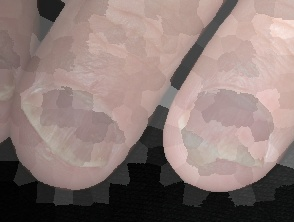Nail_psoriasis: (152, 46, 294, 207), (13, 76, 137, 180), (0, 38, 21, 108)
